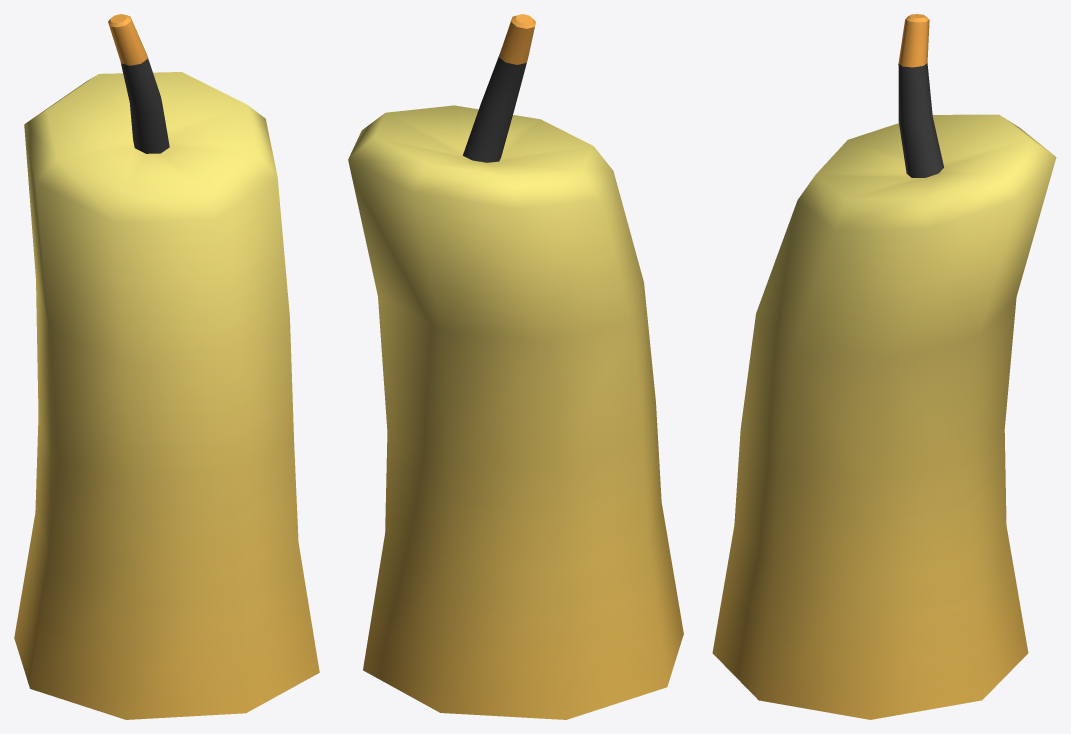
The model's file is Candle_2.obj.
The picture shows the model from 3 angles, left to right: view 1: azimuth 30°, elevation 25°; view 2: azimuth 150°, elevation 25°; view 3: azimuth 270°, elevation 25°; orthographic projection. The views are drawn at different scales.
Visible parts, largest first — view 1: Candle_2; view 2: Candle_2; view 3: Candle_2.
Part boxes in pixels (x1,y1,x2,y2): Candle_2: (14, 14, 319, 719); Candle_2: (348, 14, 683, 719); Candle_2: (712, 14, 1056, 719).
Size of the model in its own units: 0.1091 by 0.2387 by 0.1188.
